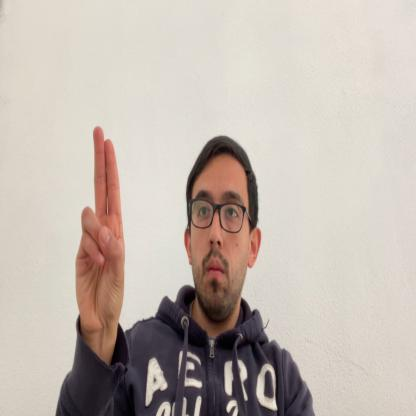U: (75, 125, 125, 333)
